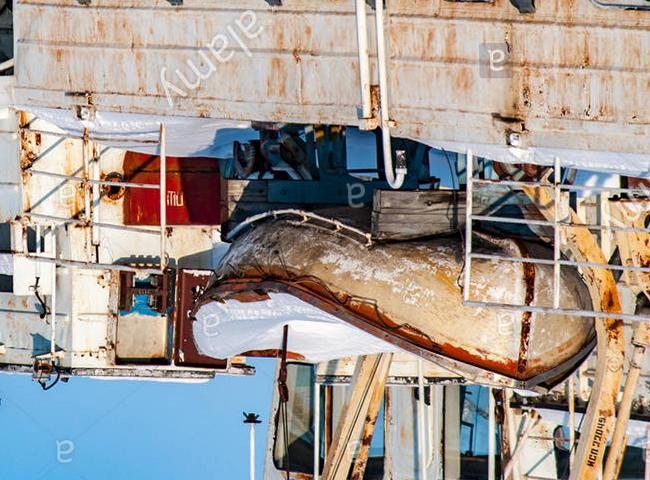rust: (524, 16, 643, 144), (402, 322, 588, 386), (200, 265, 385, 327), (262, 8, 328, 114), (62, 165, 124, 235), (515, 237, 543, 378), (594, 278, 632, 369), (7, 90, 41, 186), (358, 78, 390, 125)
